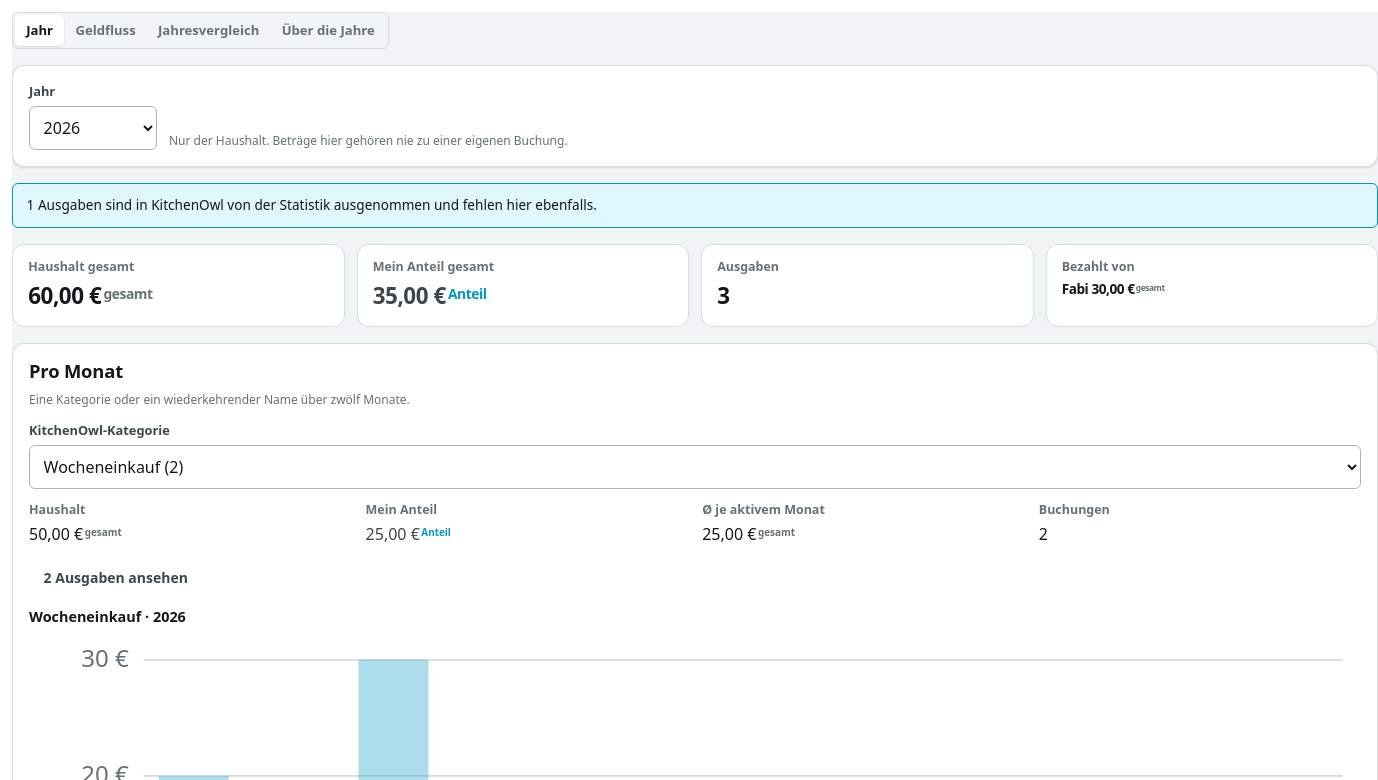
Test: the household's year against last › shows the raw years when asked, and says which basis is in use
Click the button "Jahresvergleich" at (209, 30), box [147,15,270,46]
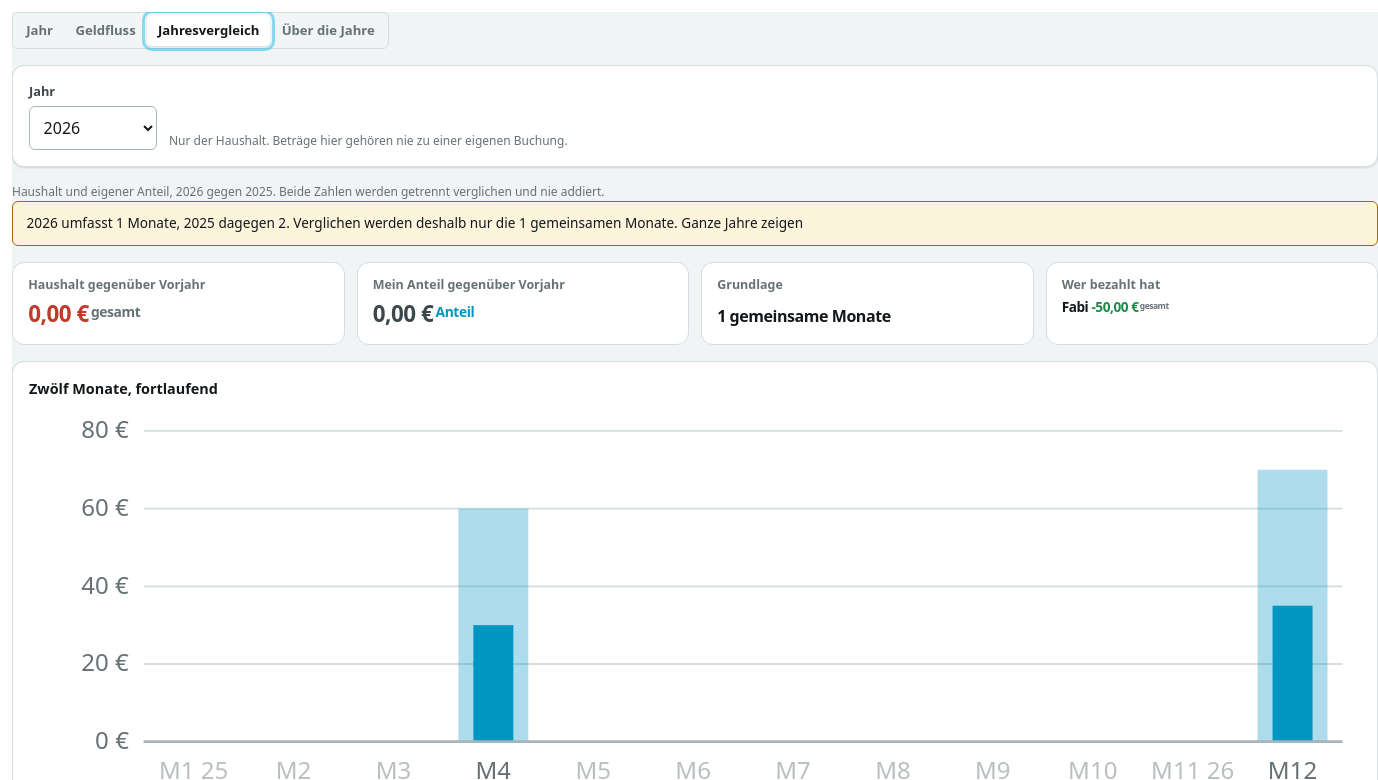
Click the button "Ganze Jahre zeigen" at (742, 223), box [681,213,803,233]
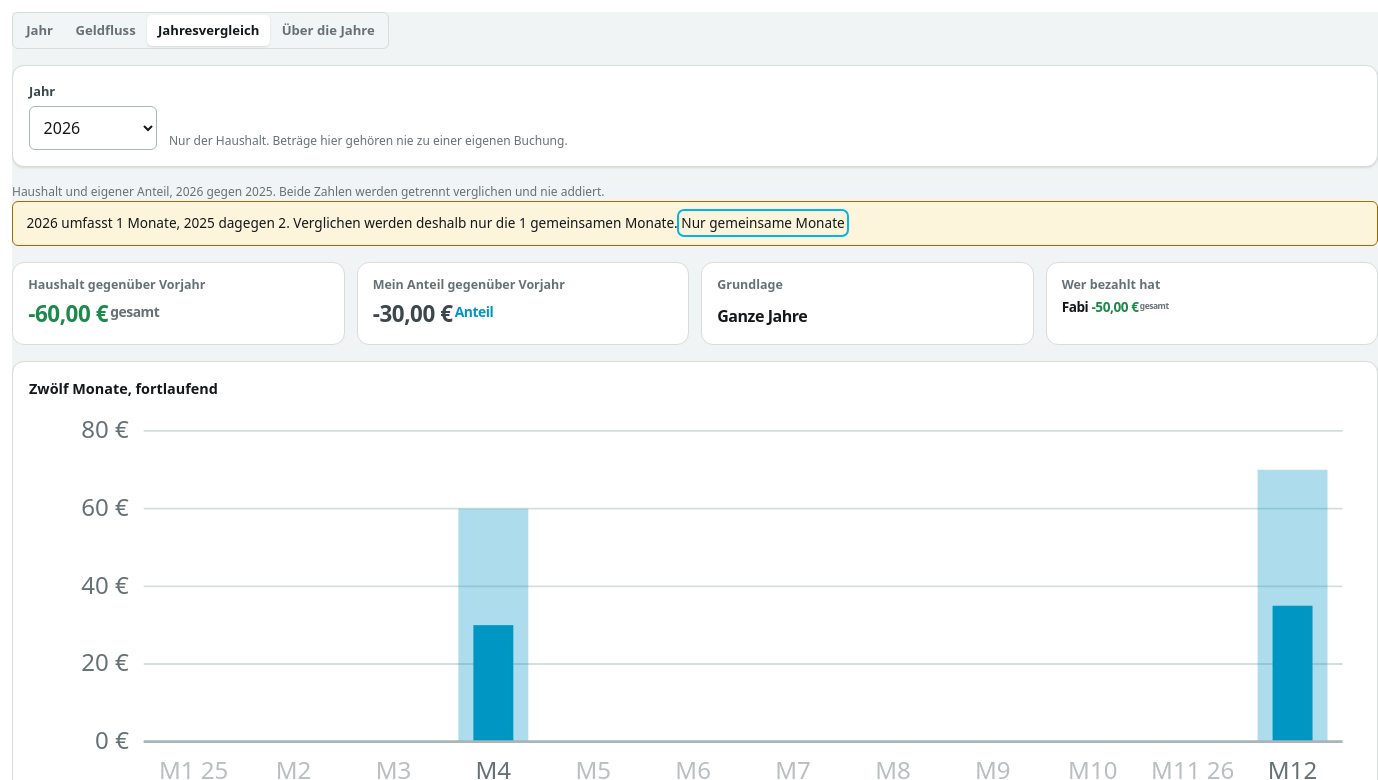
Expected: the text "Ganze Jahre" is shown, [717,304,807,326]
